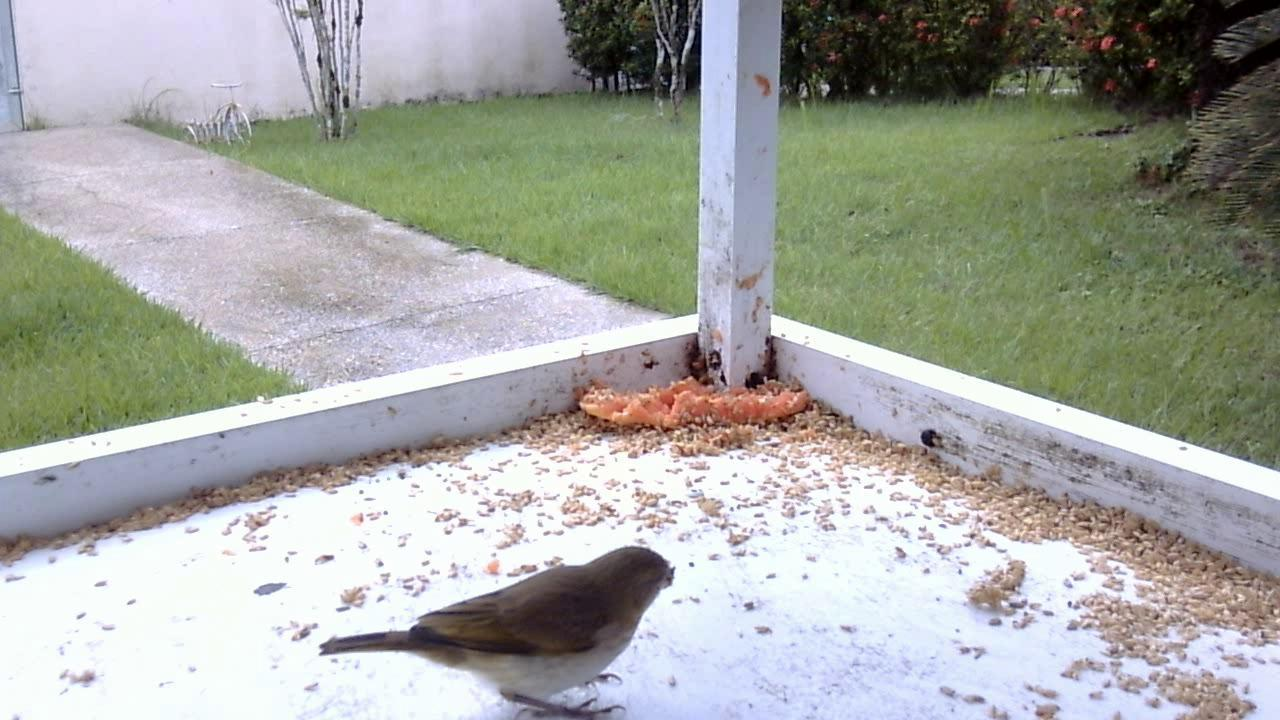canario_do_amazonas: (308, 543, 677, 716)
